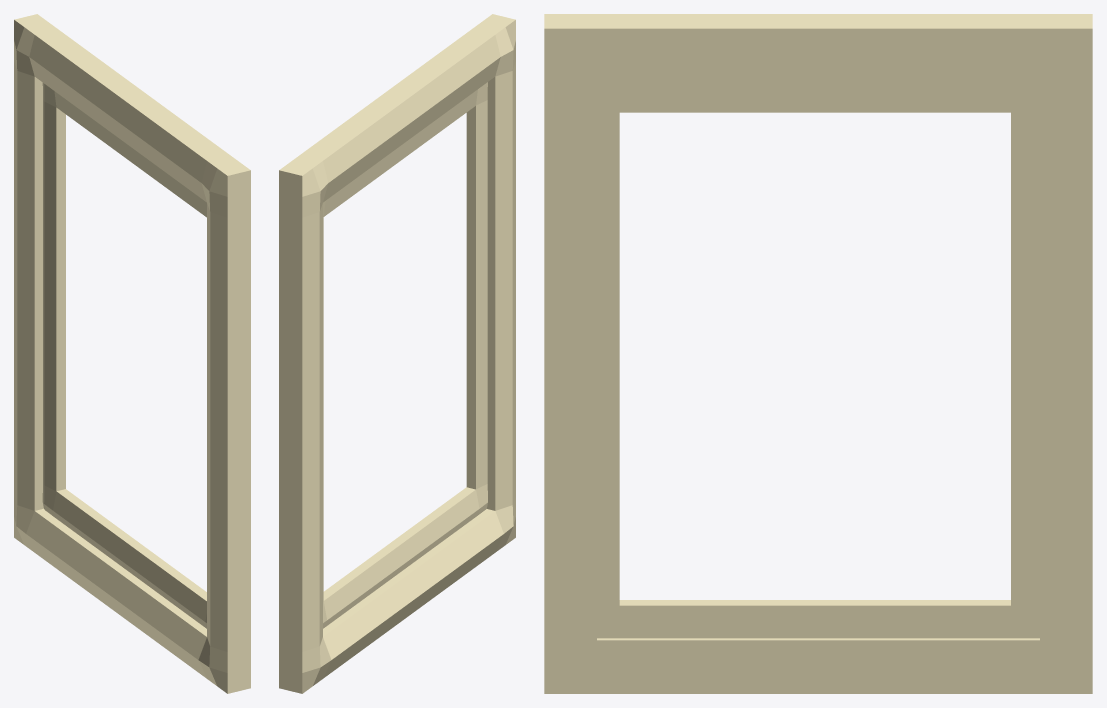
File: painting_frame.fbx
3 views of the same model, side by side, from view 1: azimuth 30°, elevation 25°; view 2: azimuth 150°, elevation 25°; view 3: azimuth 270°, elevation 25° (orthographic). The views are drawn at different scales.
Visible parts, largest first — view 1: Cube, Cube.003; view 2: Cube, Cube.003; view 3: Cube, Cube.003.
Boxes of the visible parts, <box> form: Cube: <box>14,14,250,693</box>; Cube.003: <box>42,83,206,628</box>; Cube: <box>279,14,515,693</box>; Cube.003: <box>323,82,487,628</box>; Cube: <box>544,14,1092,693</box>; Cube.003: <box>597,82,1039,638</box>.
Bounding box in the file's own units: 27.03 × 420 × 314.
